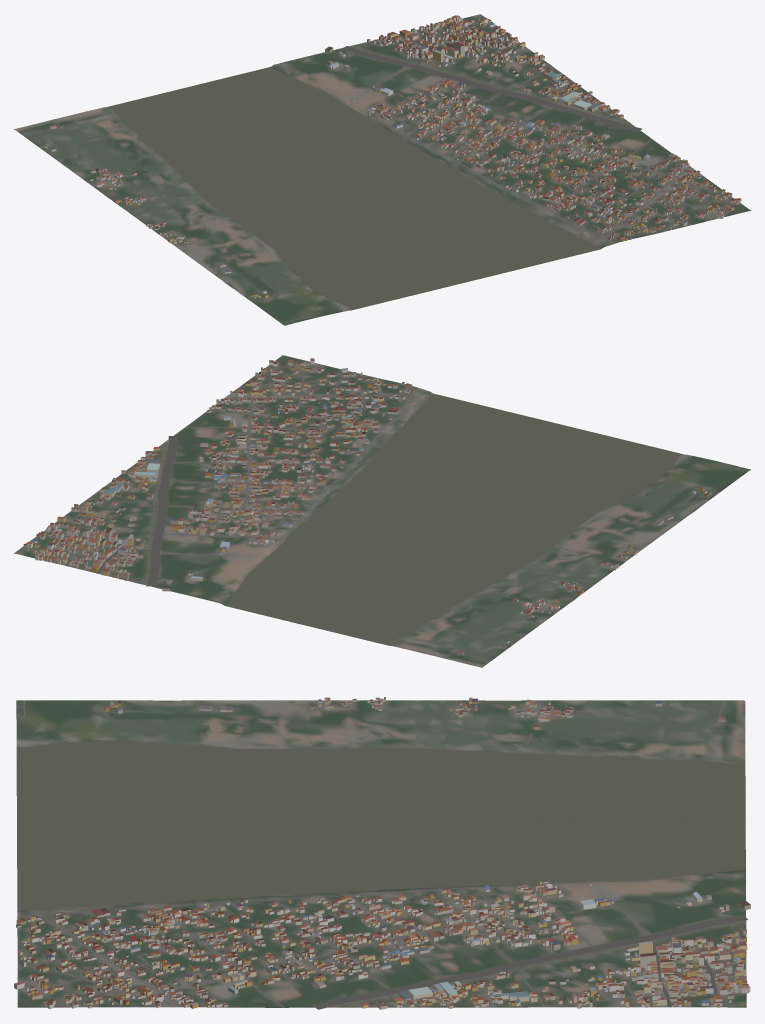
3 views of the same model, one above another, from view 1: azimuth 30°, elevation 25°; view 2: azimuth 150°, elevation 25°; view 3: azimuth 270°, elevation 25° (orthographic). The views are drawn at different scales.
Parts seen in each view (by area): view 1: water, ground, buildings, roads; view 2: water, ground, buildings, roads; view 3: water, ground, buildings, roads.
Part boxes in pixels (<box>): water: <box>105,67,600,309</box>; ground: <box>14,14,750,325</box>; buildings: <box>44,15,741,298</box>; roads: <box>21,26,734,323</box>; water: <box>227,393,697,644</box>; ground: <box>14,355,750,667</box>; buildings: <box>23,358,711,654</box>; roads: <box>21,365,747,662</box>; water: <box>17,700,745,910</box>; ground: <box>16,700,746,1007</box>; buildings: <box>14,697,750,1009</box>; roads: <box>16,700,747,1009</box>.
Bounding box in the file's own units: 1416 × 37.8 × 1418.
